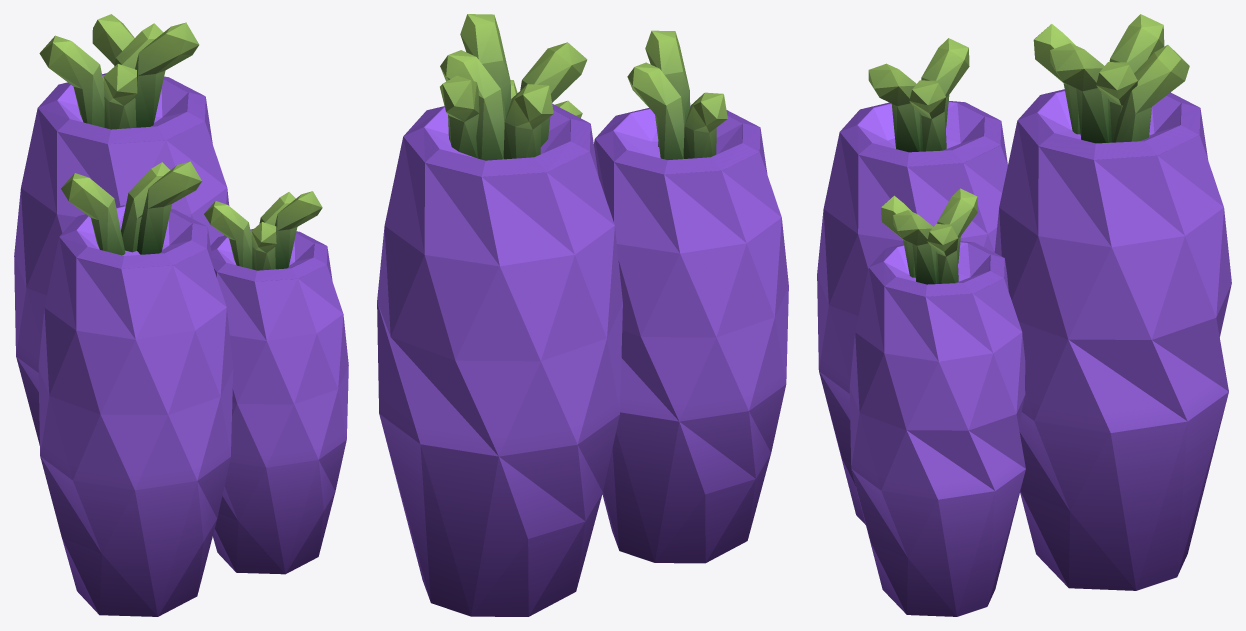
File: SM_Spongia_23.fbx
3 views of the same model, side by side, from view 1: azimuth 30°, elevation 25°; view 2: azimuth 150°, elevation 25°; view 3: azimuth 270°, elevation 25° (orthographic). The views are drawn at different scales.
Visible parts, largest first — view 1: Spongia_23; view 2: Spongia_23; view 3: Spongia_23.
Part boxes in pixels (x1,y1,x2,y2): Spongia_23: (14,14,348,616); Spongia_23: (377,14,788,616); Spongia_23: (817,14,1231,616).
Size of the model in its own units: 68.11 by 109 by 76.26.
